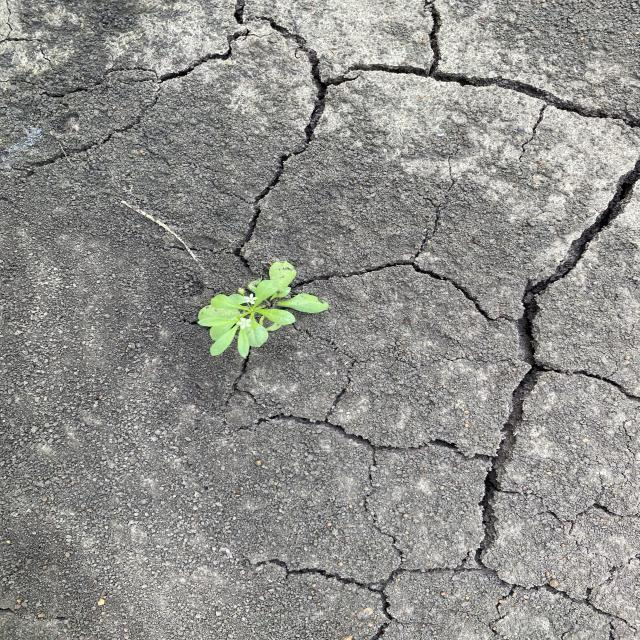Carpetweed: (195, 259, 333, 359)
